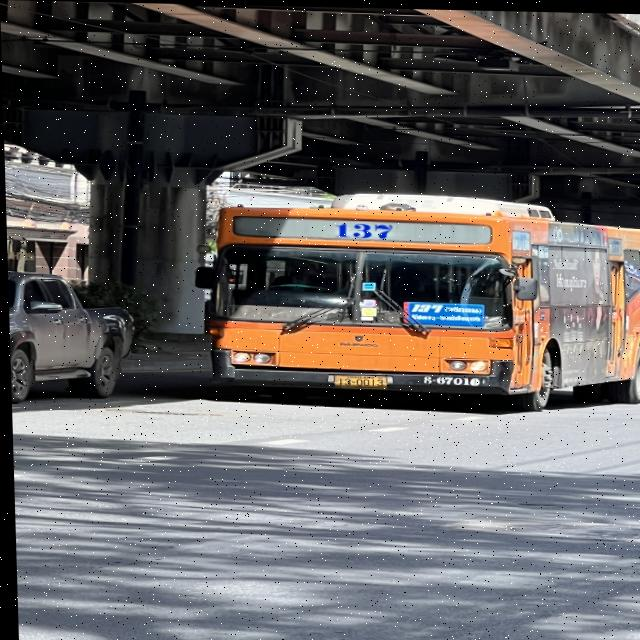BMTA-bus: (195, 195, 640, 409)
Bus Line Number: (333, 221, 394, 240)
Bus Side Number: (418, 371, 484, 387)
Destination Sign: (408, 300, 483, 325)
